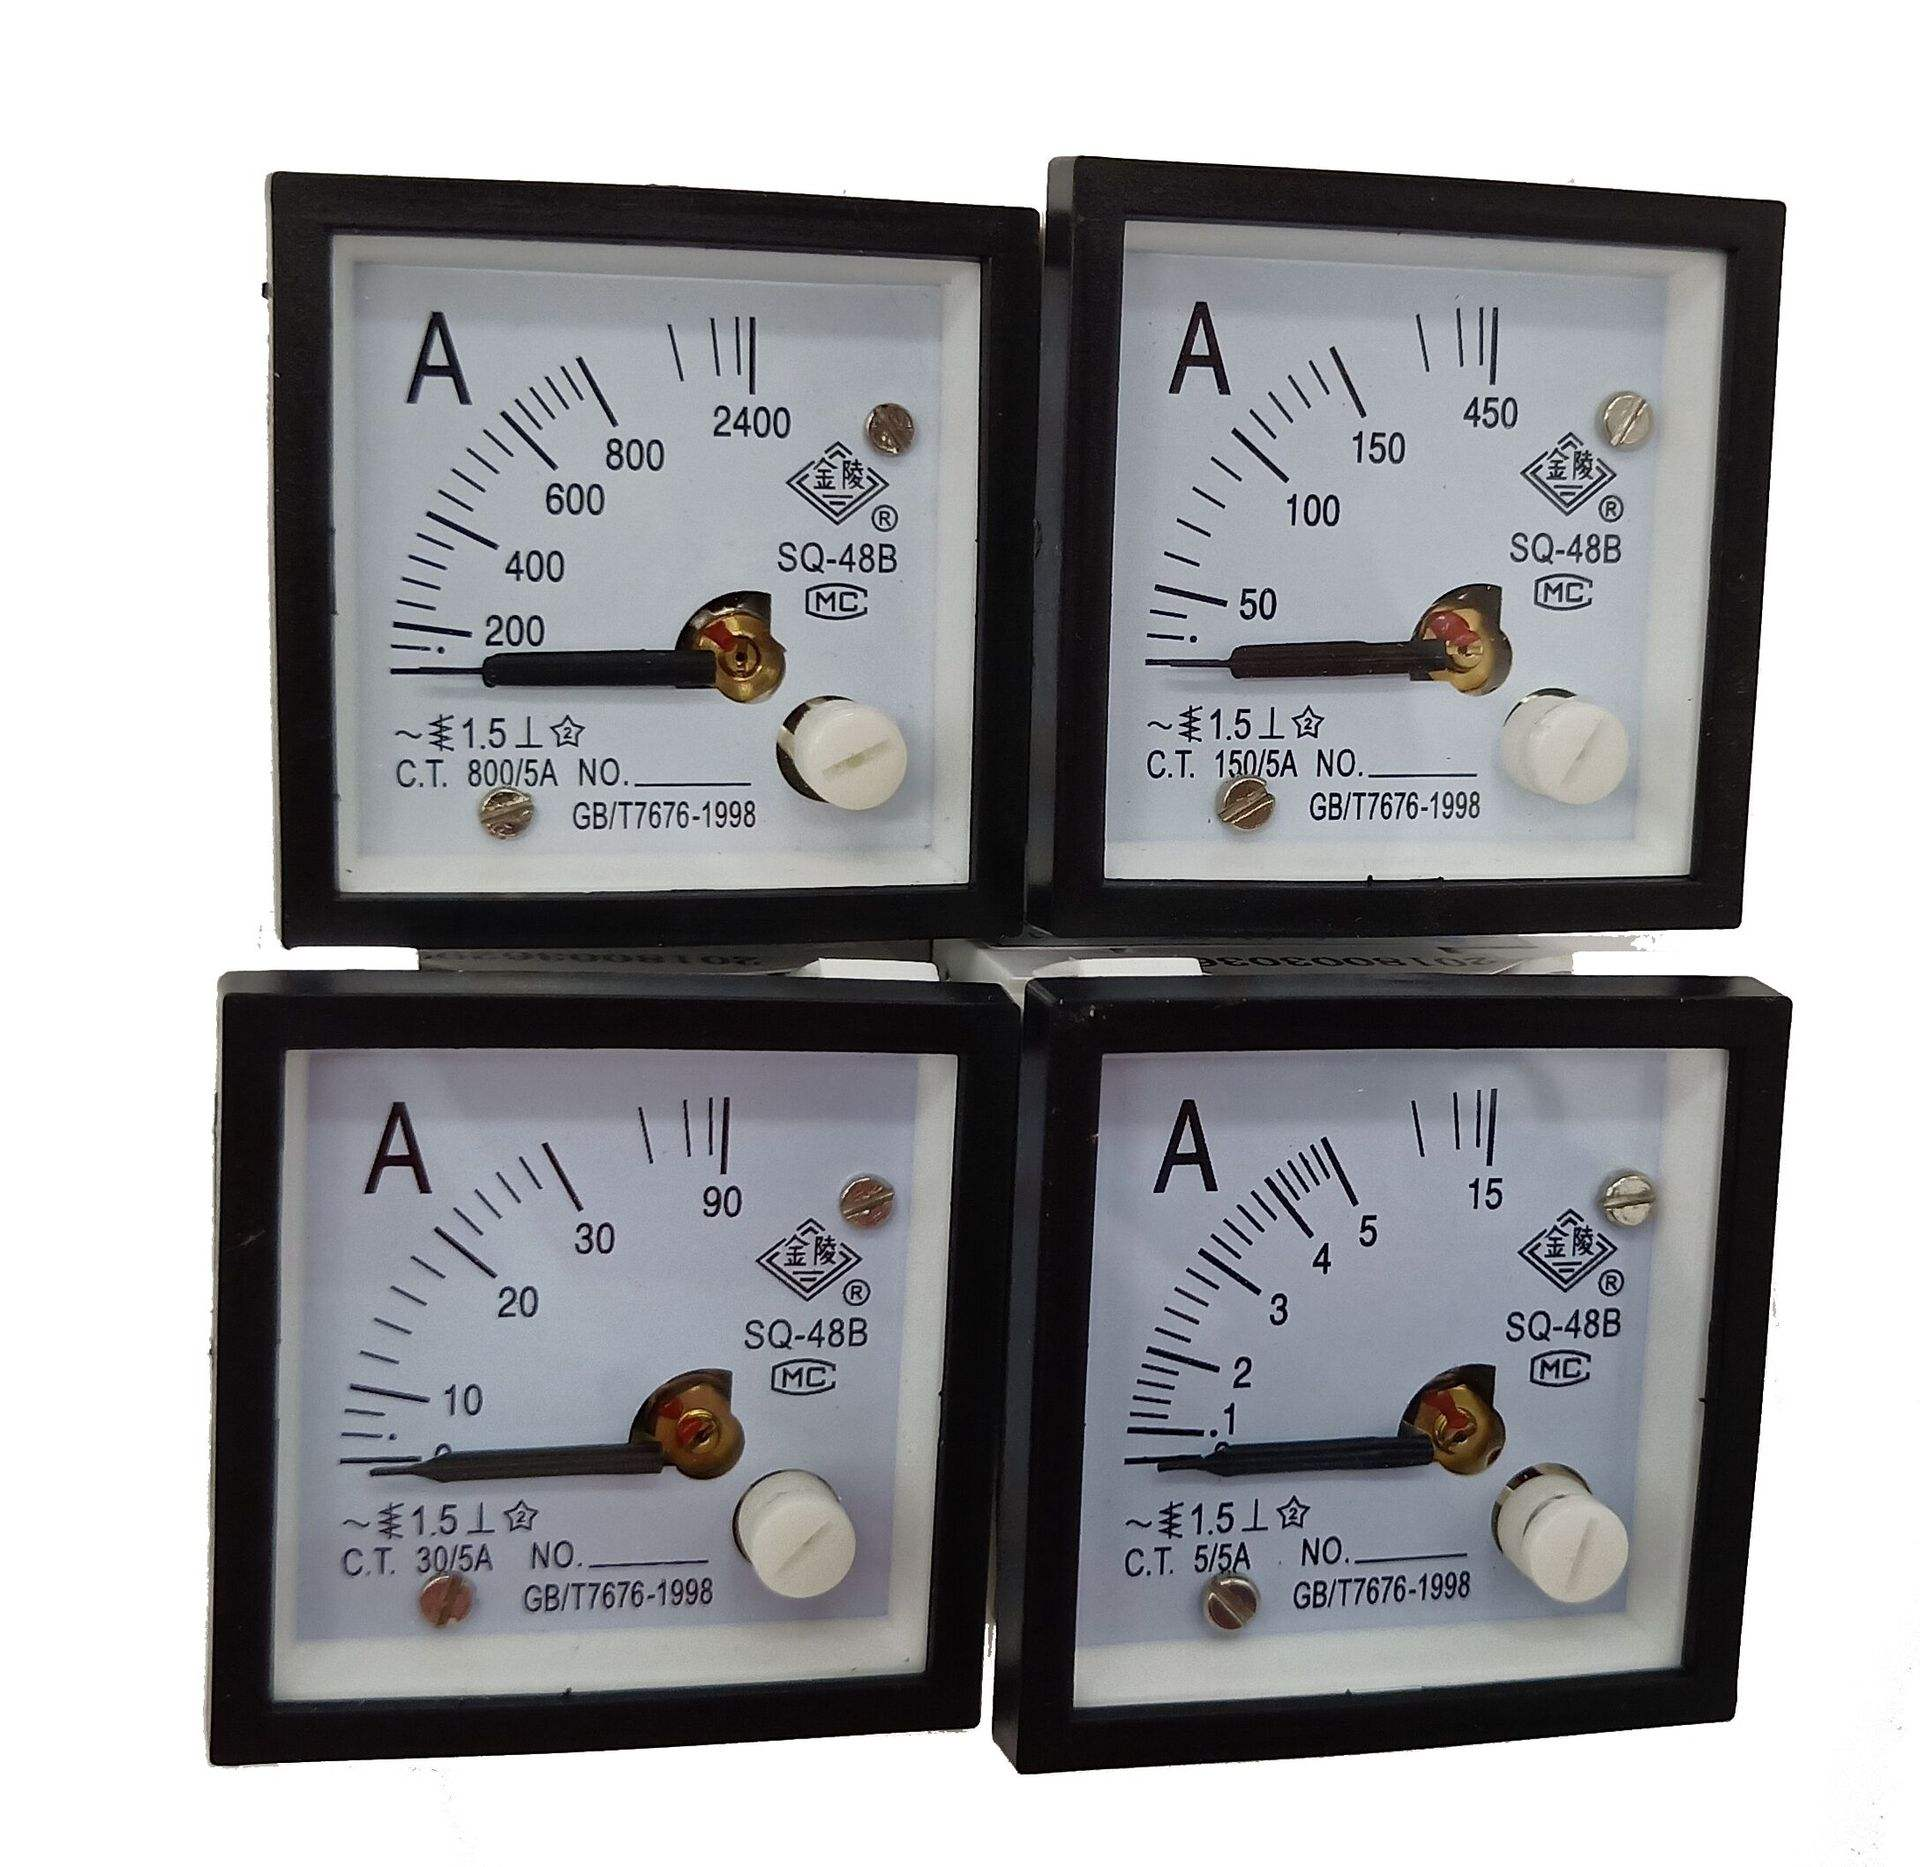pointer: (269, 1037, 939, 1702), (322, 228, 981, 891), (1107, 201, 1728, 879), (1065, 1054, 1731, 1678)
